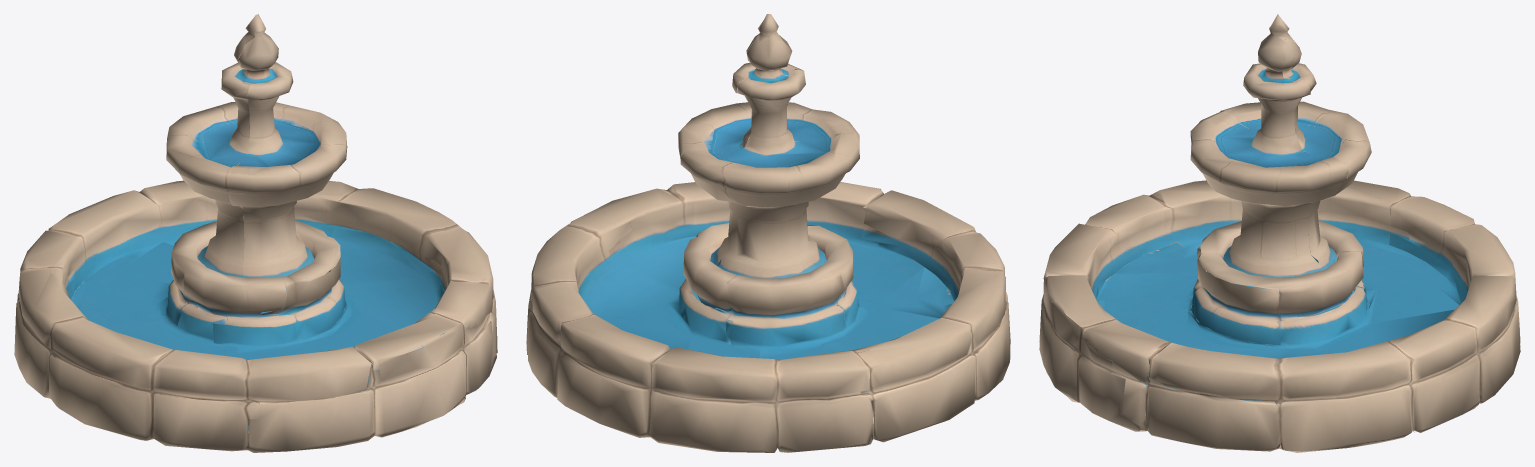
The picture shows the model from 3 angles, left to right: view 1: azimuth 30°, elevation 25°; view 2: azimuth 150°, elevation 25°; view 3: azimuth 270°, elevation 25°; orthographic projection.
Visible parts, largest first — view 1: quad; view 2: quad; view 3: quad.
Part boxes in pixels (x1,y1,x2,y2): quad: (14, 14, 497, 452); quad: (526, 14, 1010, 452); quad: (1039, 14, 1520, 452).
Bounding box in the file's own units: 799 × 621 × 800.
1 material, 1 textured.
